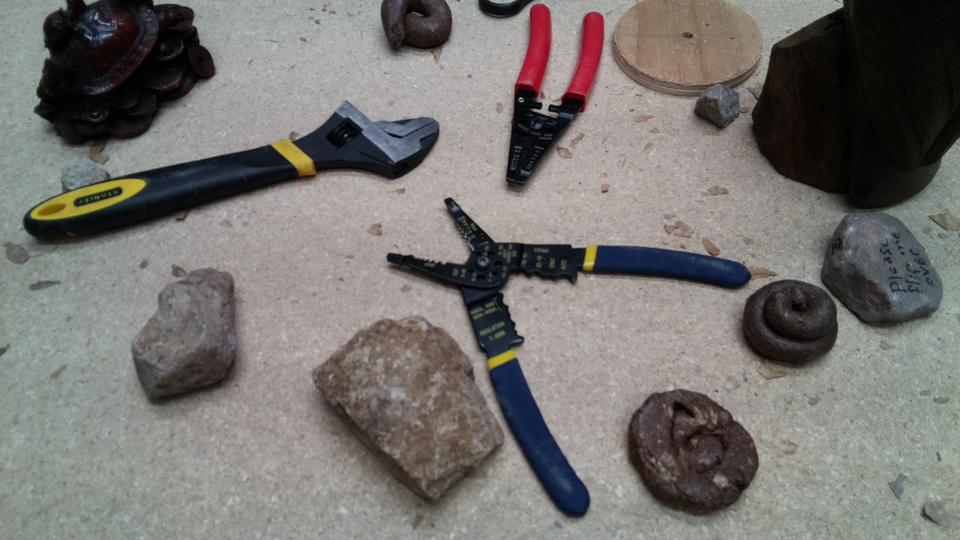poop: (625, 387, 761, 518), (739, 274, 840, 371), (377, 1, 453, 57)
